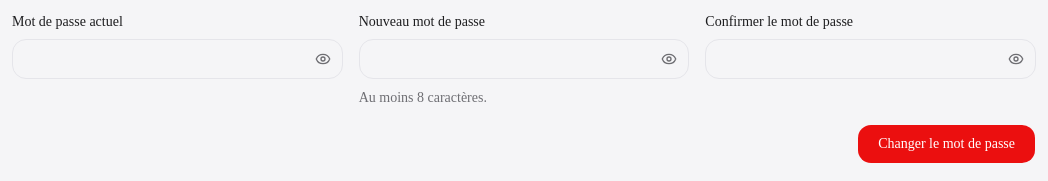
Scenario: ChangePasswordForm › shows the server verdict on the current-password field
In the password field labelled "Mot de passe actuel": coordinates (177, 59) [12,39,343,79], type "Wrong123!"
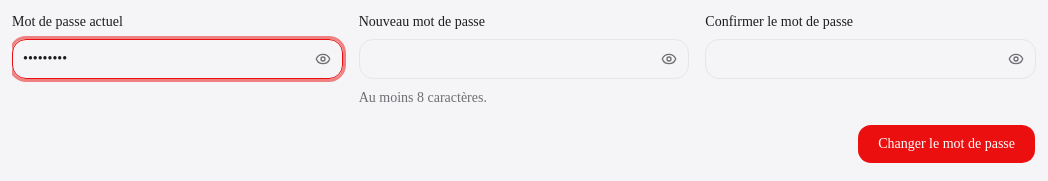
In the password field labelled "Nouveau mot de passe": coordinates (524, 59) [359,39,689,79], type "NouveauMdp2026!"
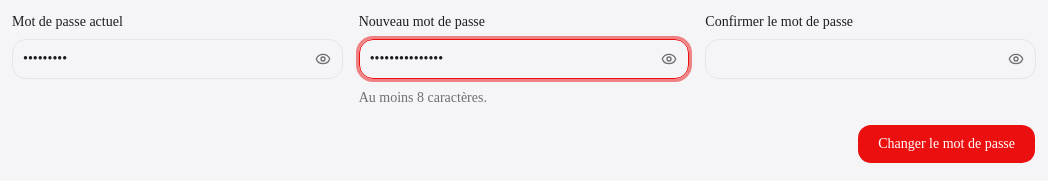
In the password field labelled "Confirmer le mot de passe": coordinates (871, 59) [705,39,1036,79], type "NouveauMdp2026!"
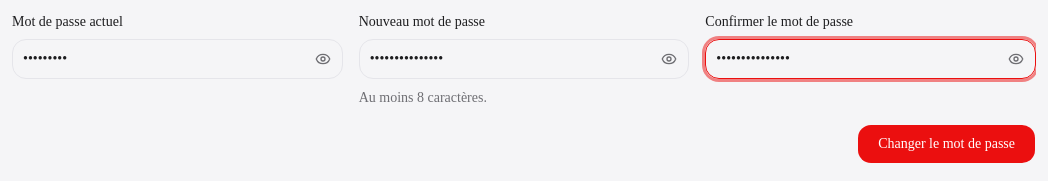
Click the button "Changer le mot de passe": coordinates (947, 144) [857,124,1036,164]
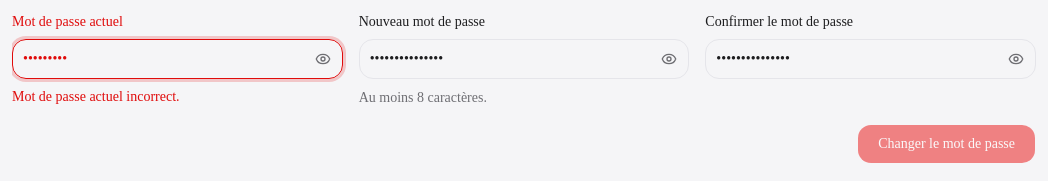
Now the text "Mot de passe actuel incorrect." is shown, box [12,89,180,104]
